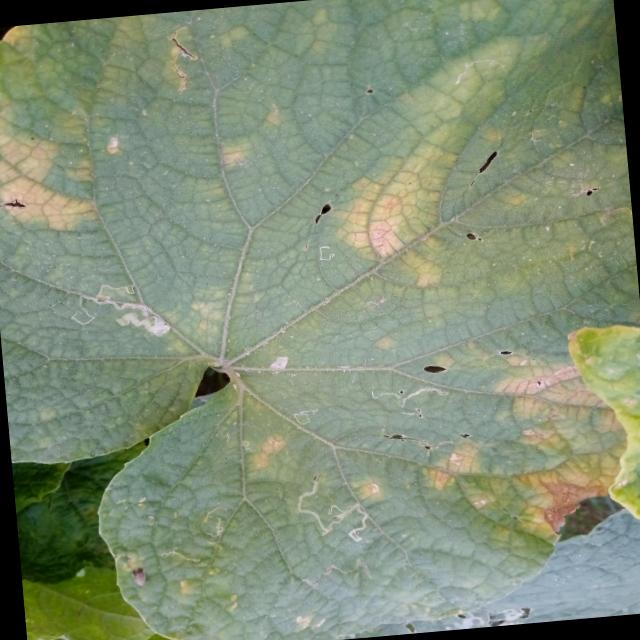cucumber_downy: (262, 29, 539, 334), (388, 333, 613, 574), (0, 21, 164, 290)
